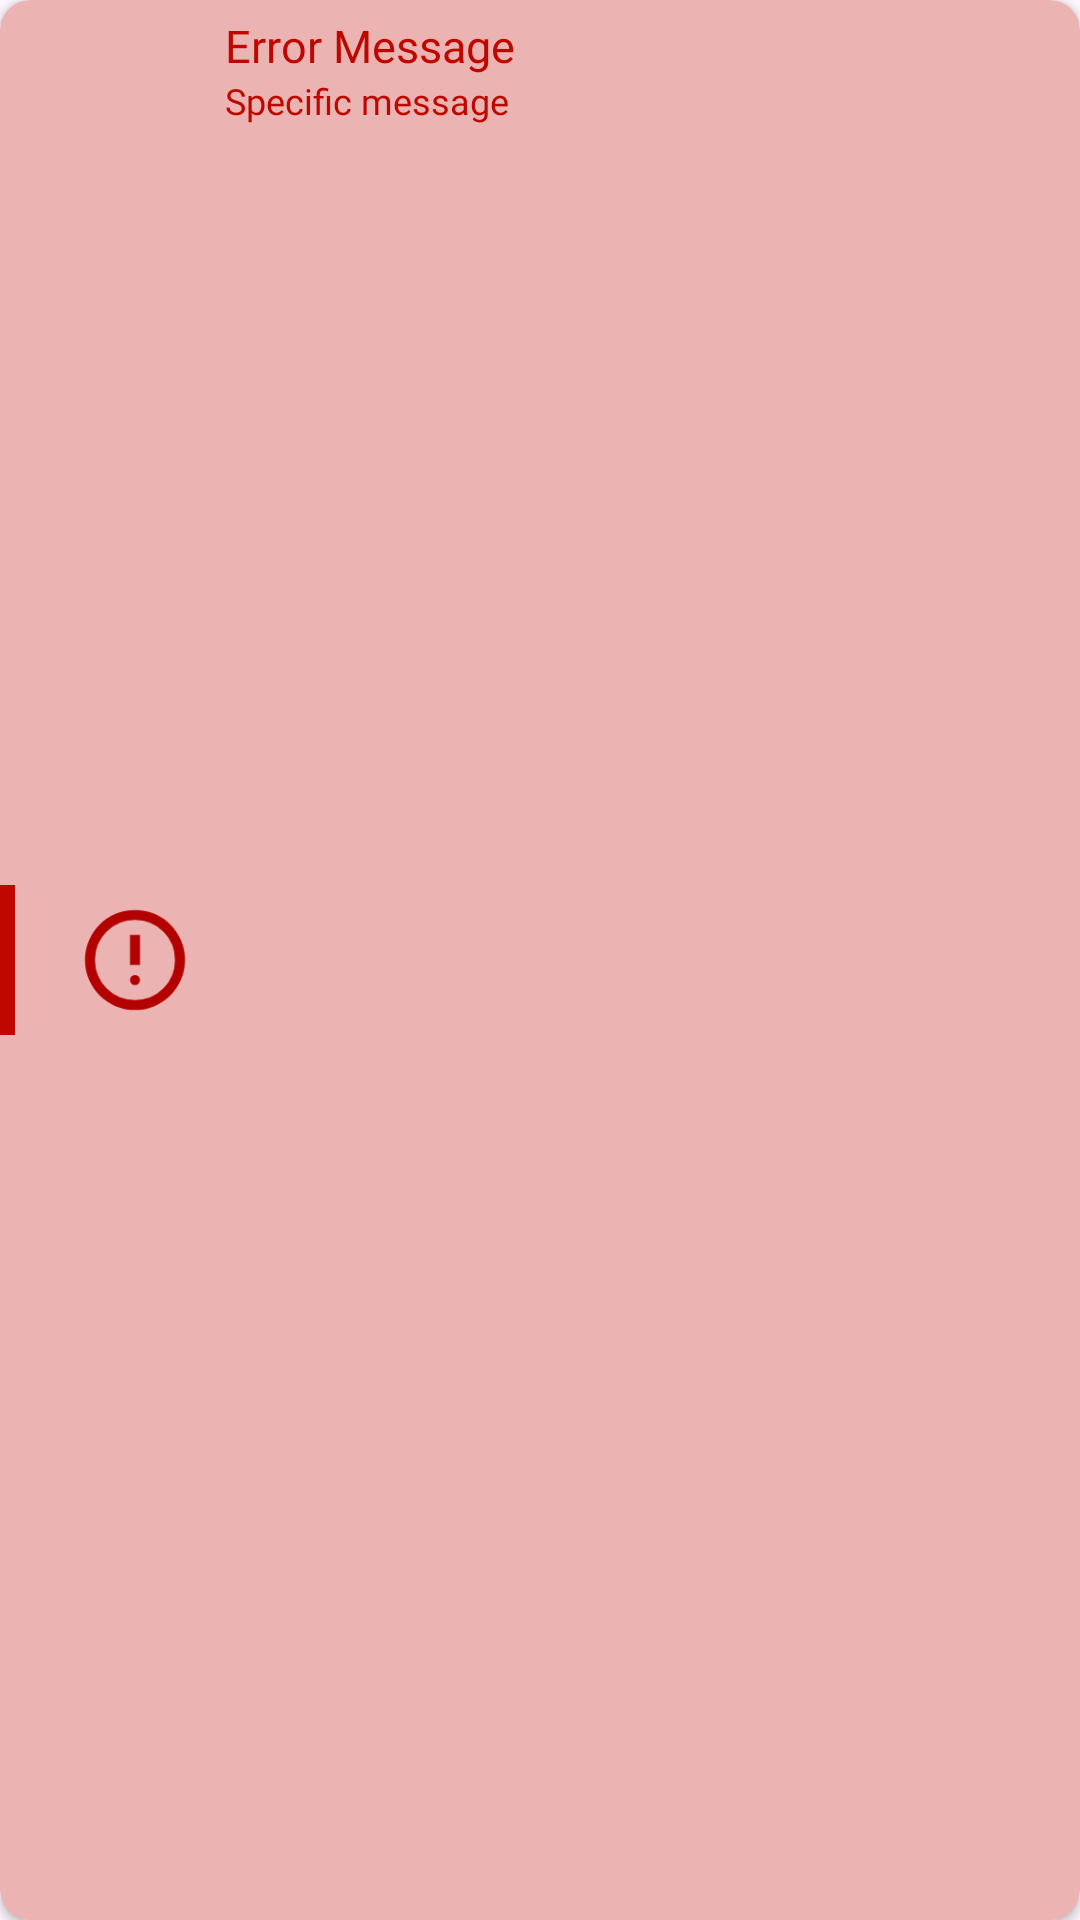

Screen size 1080*1920. Icon name, then its box in pixels as (x1, y1, x2, y2):
erroricon: (84, 909, 186, 1011)
